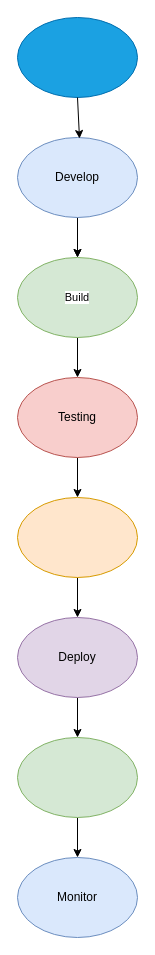
This 155x955 diagram has some shape labels left out. Here are the shapes that lost their labels. From the top down, the box of each, then its label:
(16, 16, 138, 98): Planning
(16, 496, 138, 578): Release
(16, 736, 138, 818): Operating
